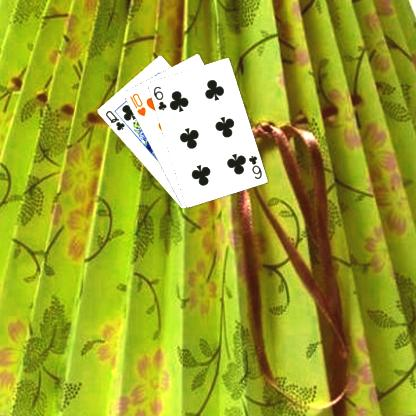10H: (127, 91, 147, 117)
6C: (150, 84, 168, 112), (246, 152, 262, 180)
QC: (102, 107, 126, 132)
